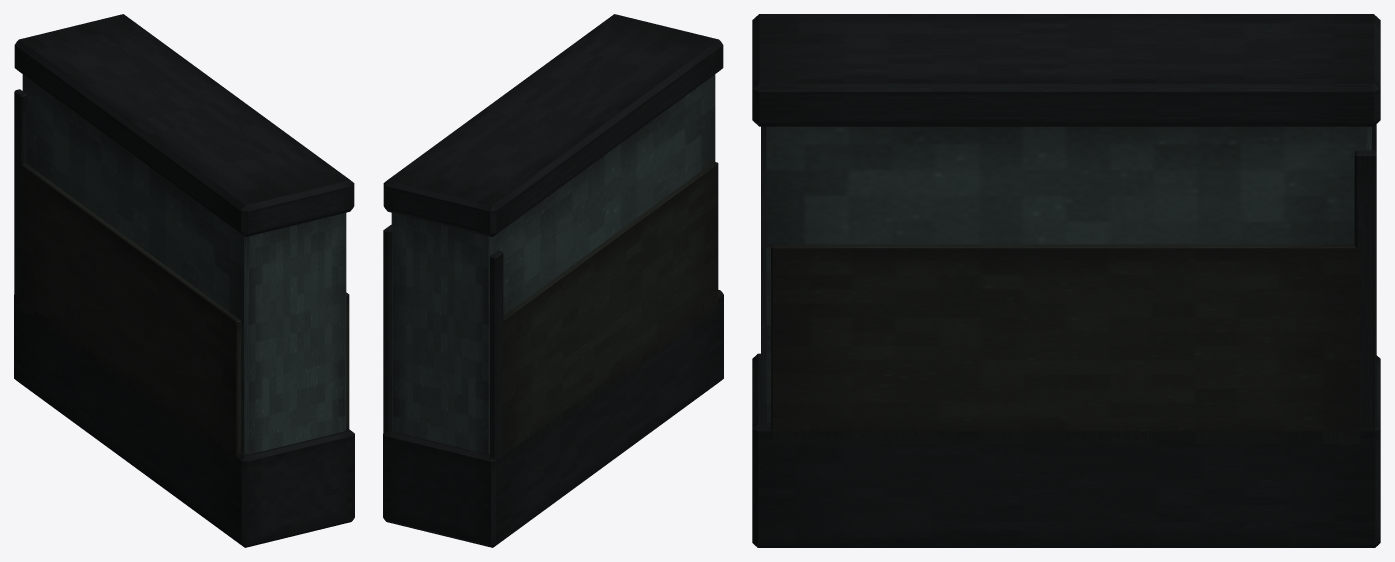
Rendered from THStage_RearRoomDivider.fbx.
3 renders of one model, left to right at view 1: azimuth 30°, elevation 25°; view 2: azimuth 150°, elevation 25°; view 3: azimuth 270°, elevation 25°, orthographic. The views are drawn at different scales.
Visible parts, largest first — view 1: THStage_RearRoomDivider.008; view 2: THStage_RearRoomDivider.008; view 3: THStage_RearRoomDivider.008.
Boxes of the visible parts, bbox=[...] form: THStage_RearRoomDivider.008: bbox=[14, 14, 354, 547]; THStage_RearRoomDivider.008: bbox=[383, 14, 723, 547]; THStage_RearRoomDivider.008: bbox=[752, 14, 1380, 547].
Bounding box in the file's own units: 0.26 × 0.75 × 0.92.
1 material, 1 textured.
